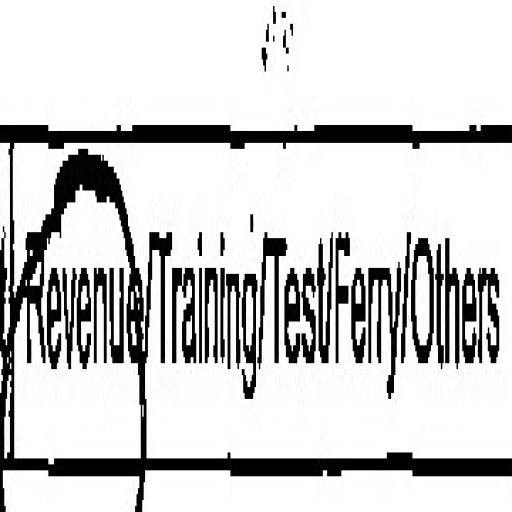check: (1, 39, 145, 512)
